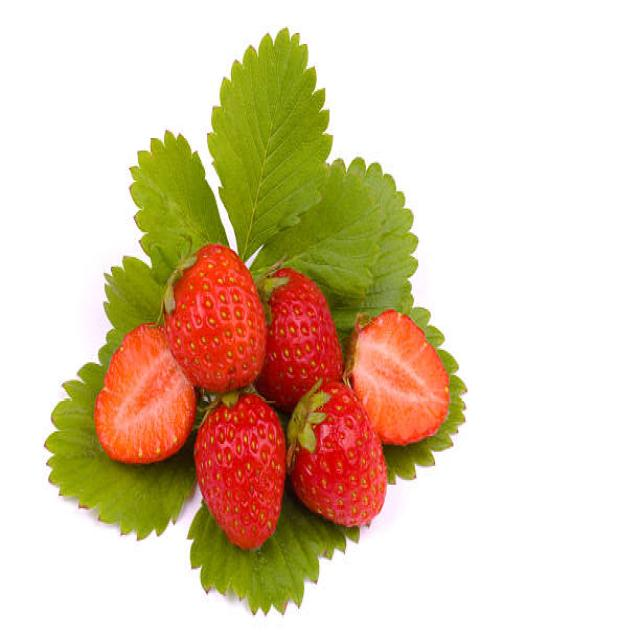Healthy Fruit: (165, 243, 268, 393), (288, 382, 388, 526), (194, 394, 286, 550), (258, 265, 345, 415)
